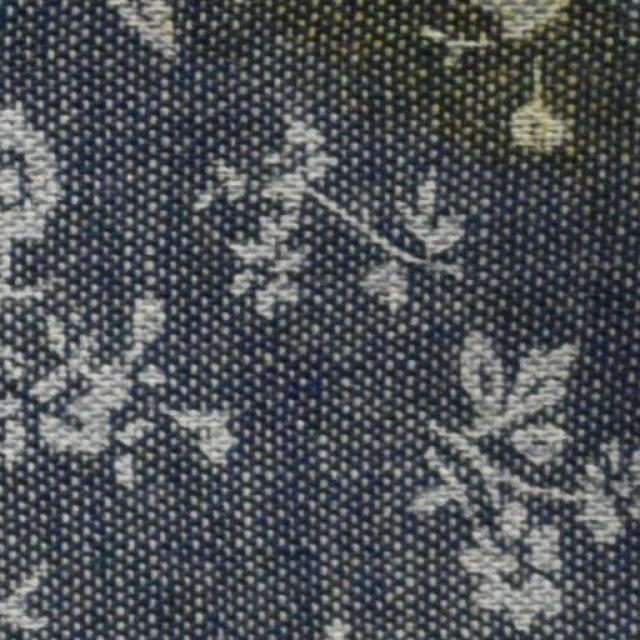Stain: (234, 0, 638, 188)
